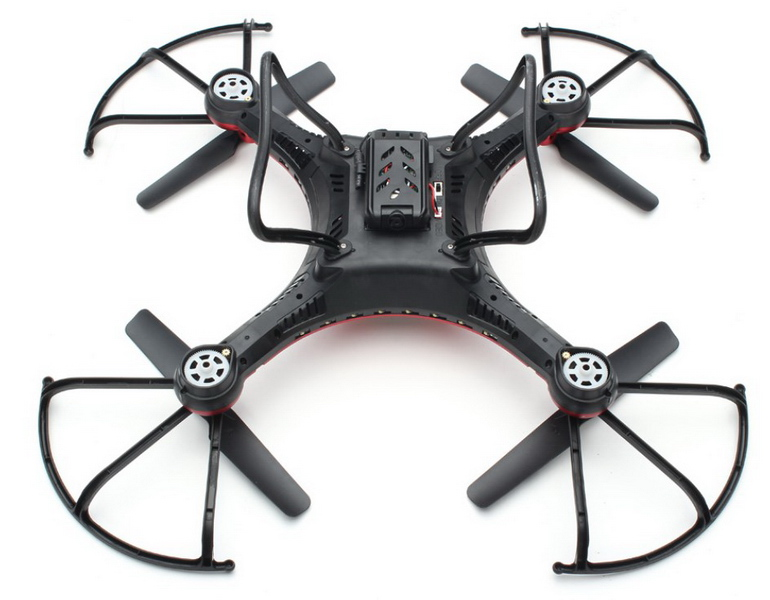drone: (37, 20, 752, 579)
